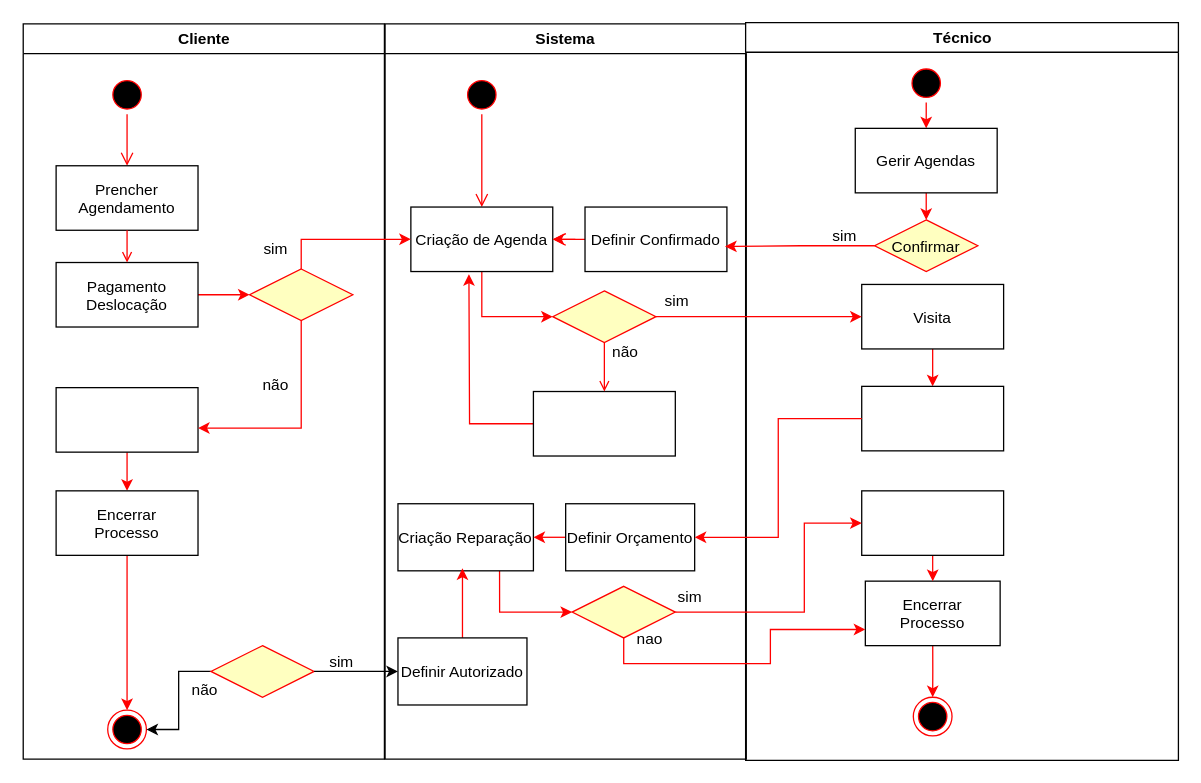
The diagram is 1201 pixels wide and 783 high, and some of its shapes have lost their labels. Here are the shapes that lost their labels. From the top down, the centre of each, then its label:
(x=300, y=294): Pago
(x=603, y=316): Confirmado
(x=126, y=419): Notificar Erro
(x=603, y=423): Definir Pendente
(x=932, y=418): Faz Diagnóstico
(x=932, y=522): Faz Reparação
(x=623, y=611): Autorizado
(x=262, y=670): Autorizar
